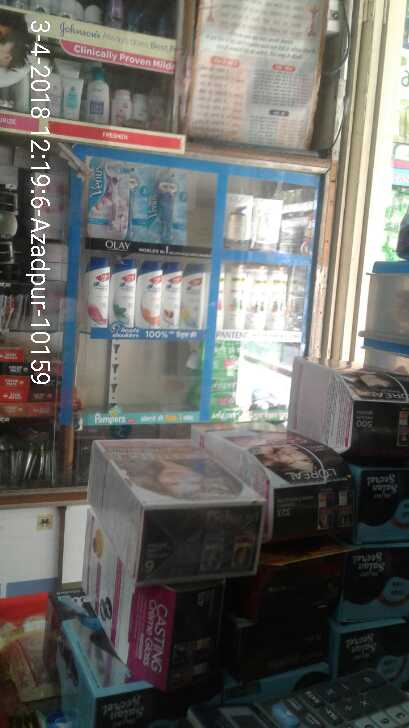venus: (130, 170, 191, 244), (87, 158, 129, 241)
